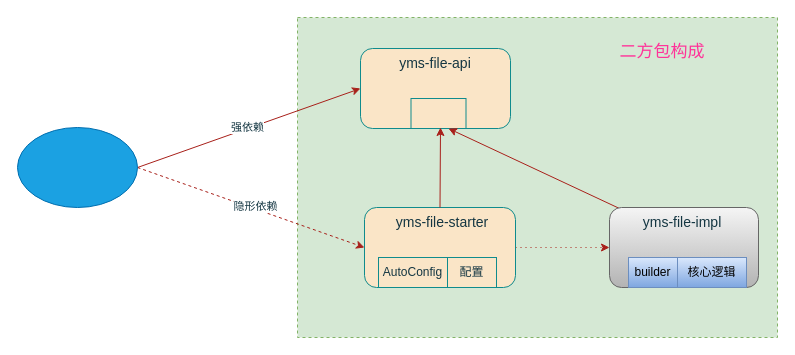
This 795x355 diagram has some shape labels left out. The shapes that lost their labels are listed below. From the top down, each one's centre as x and y in pixels, then its label:
At [438,113]: "SPI".
At [77,167]: "业务调用".
